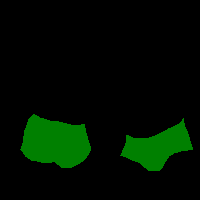mutande: (120, 117, 193, 171), (20, 113, 91, 168)
